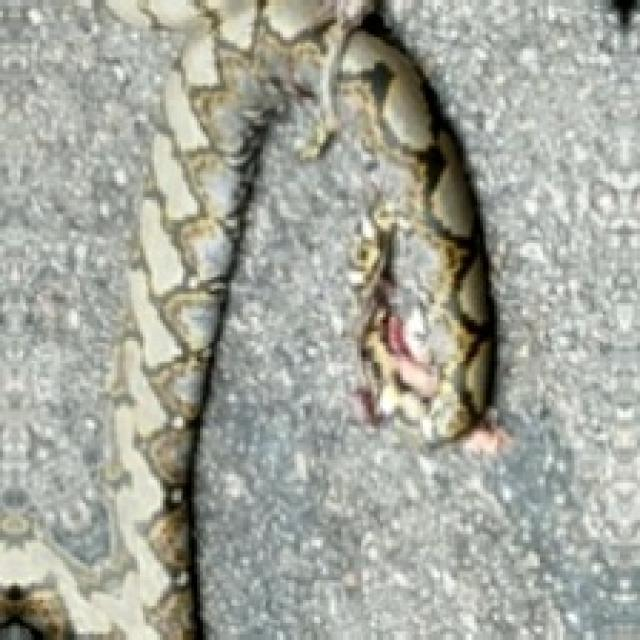reticulated python: (86, 0, 494, 637)
